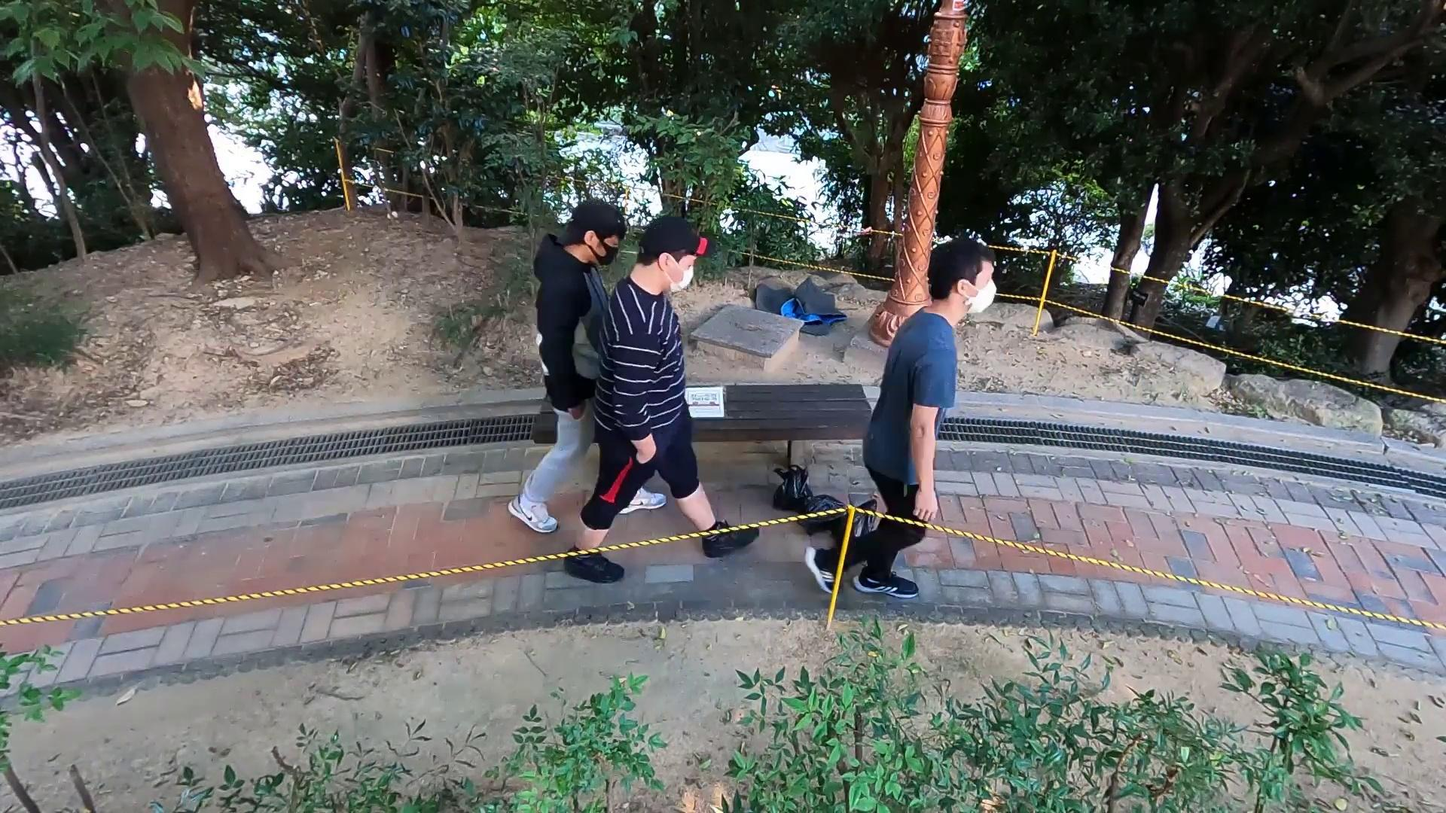person: (557, 214, 762, 584), (807, 239, 1002, 614), (511, 197, 669, 533)
trash: (751, 272, 843, 339), (774, 461, 817, 514), (802, 484, 845, 535)
